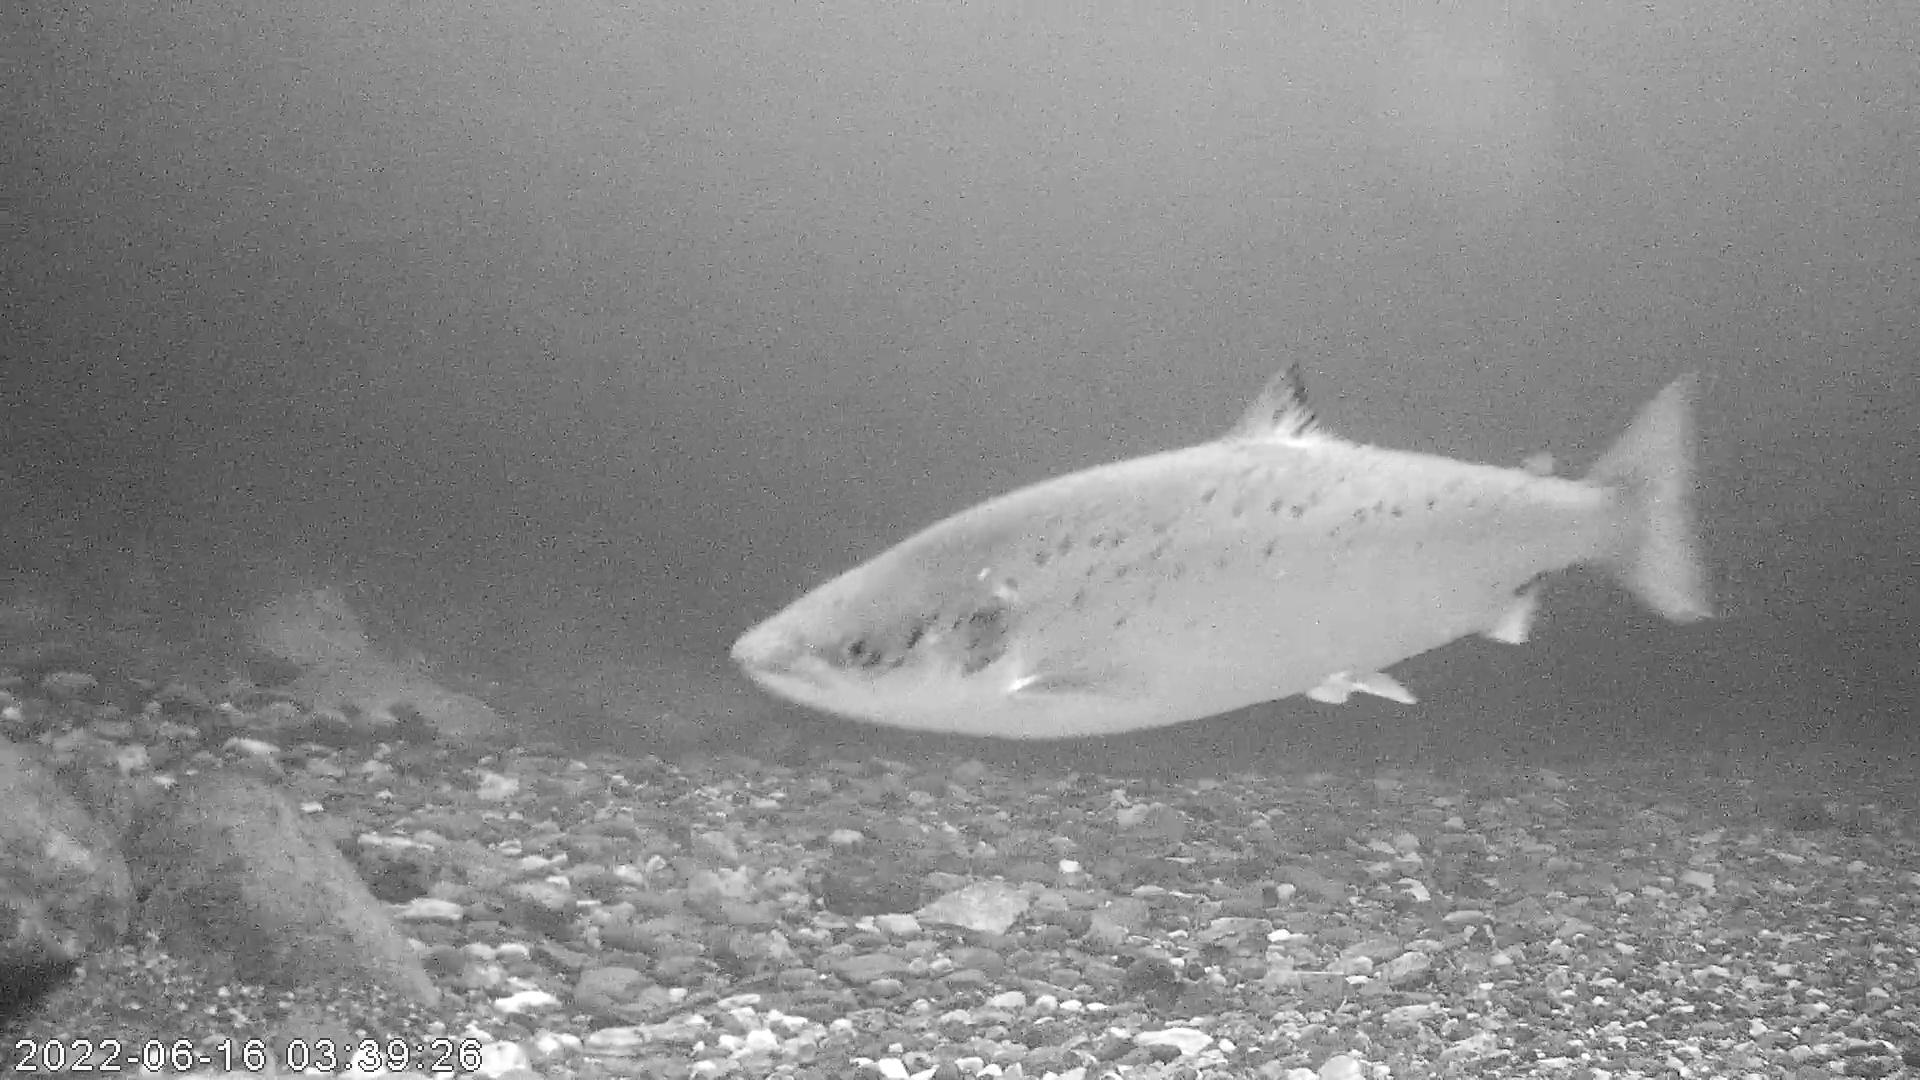salmon: (729, 361, 1721, 745)
